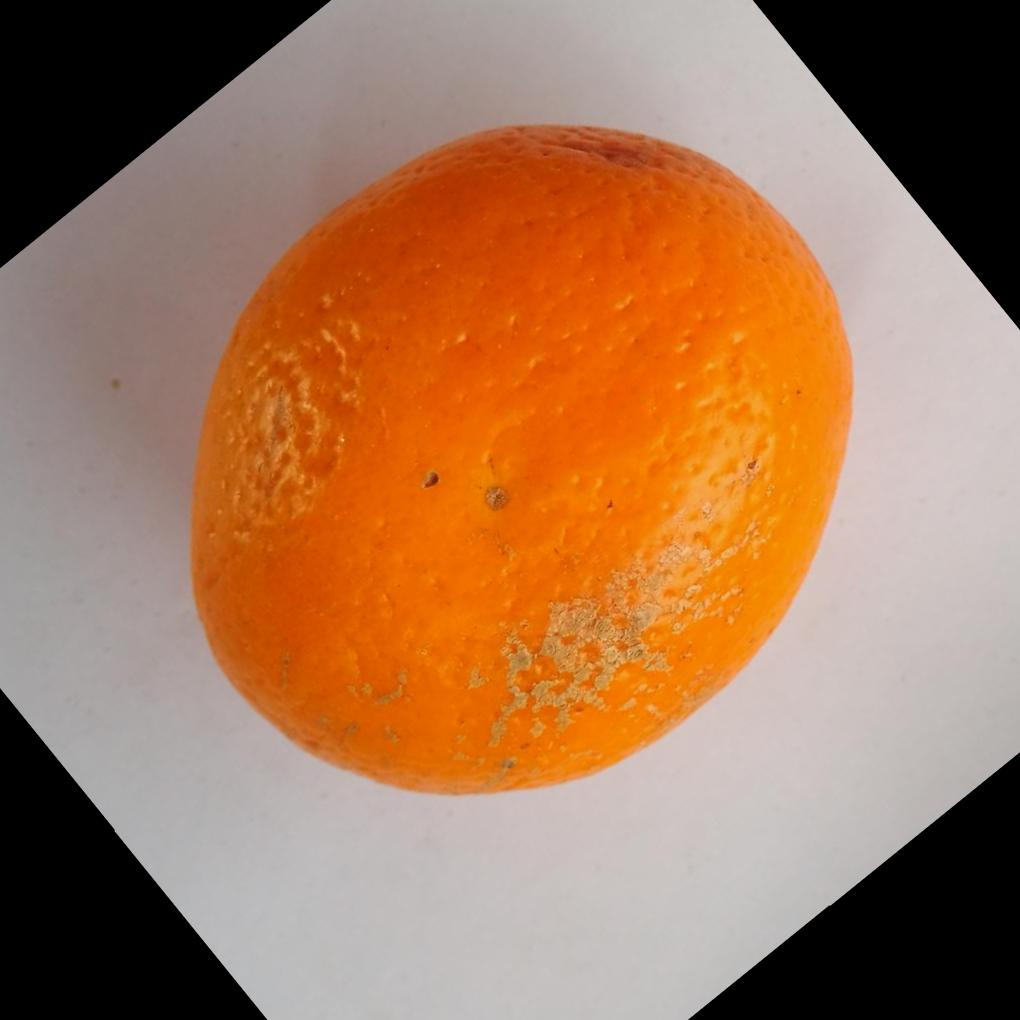FreshGuava: (185, 118, 852, 796)
